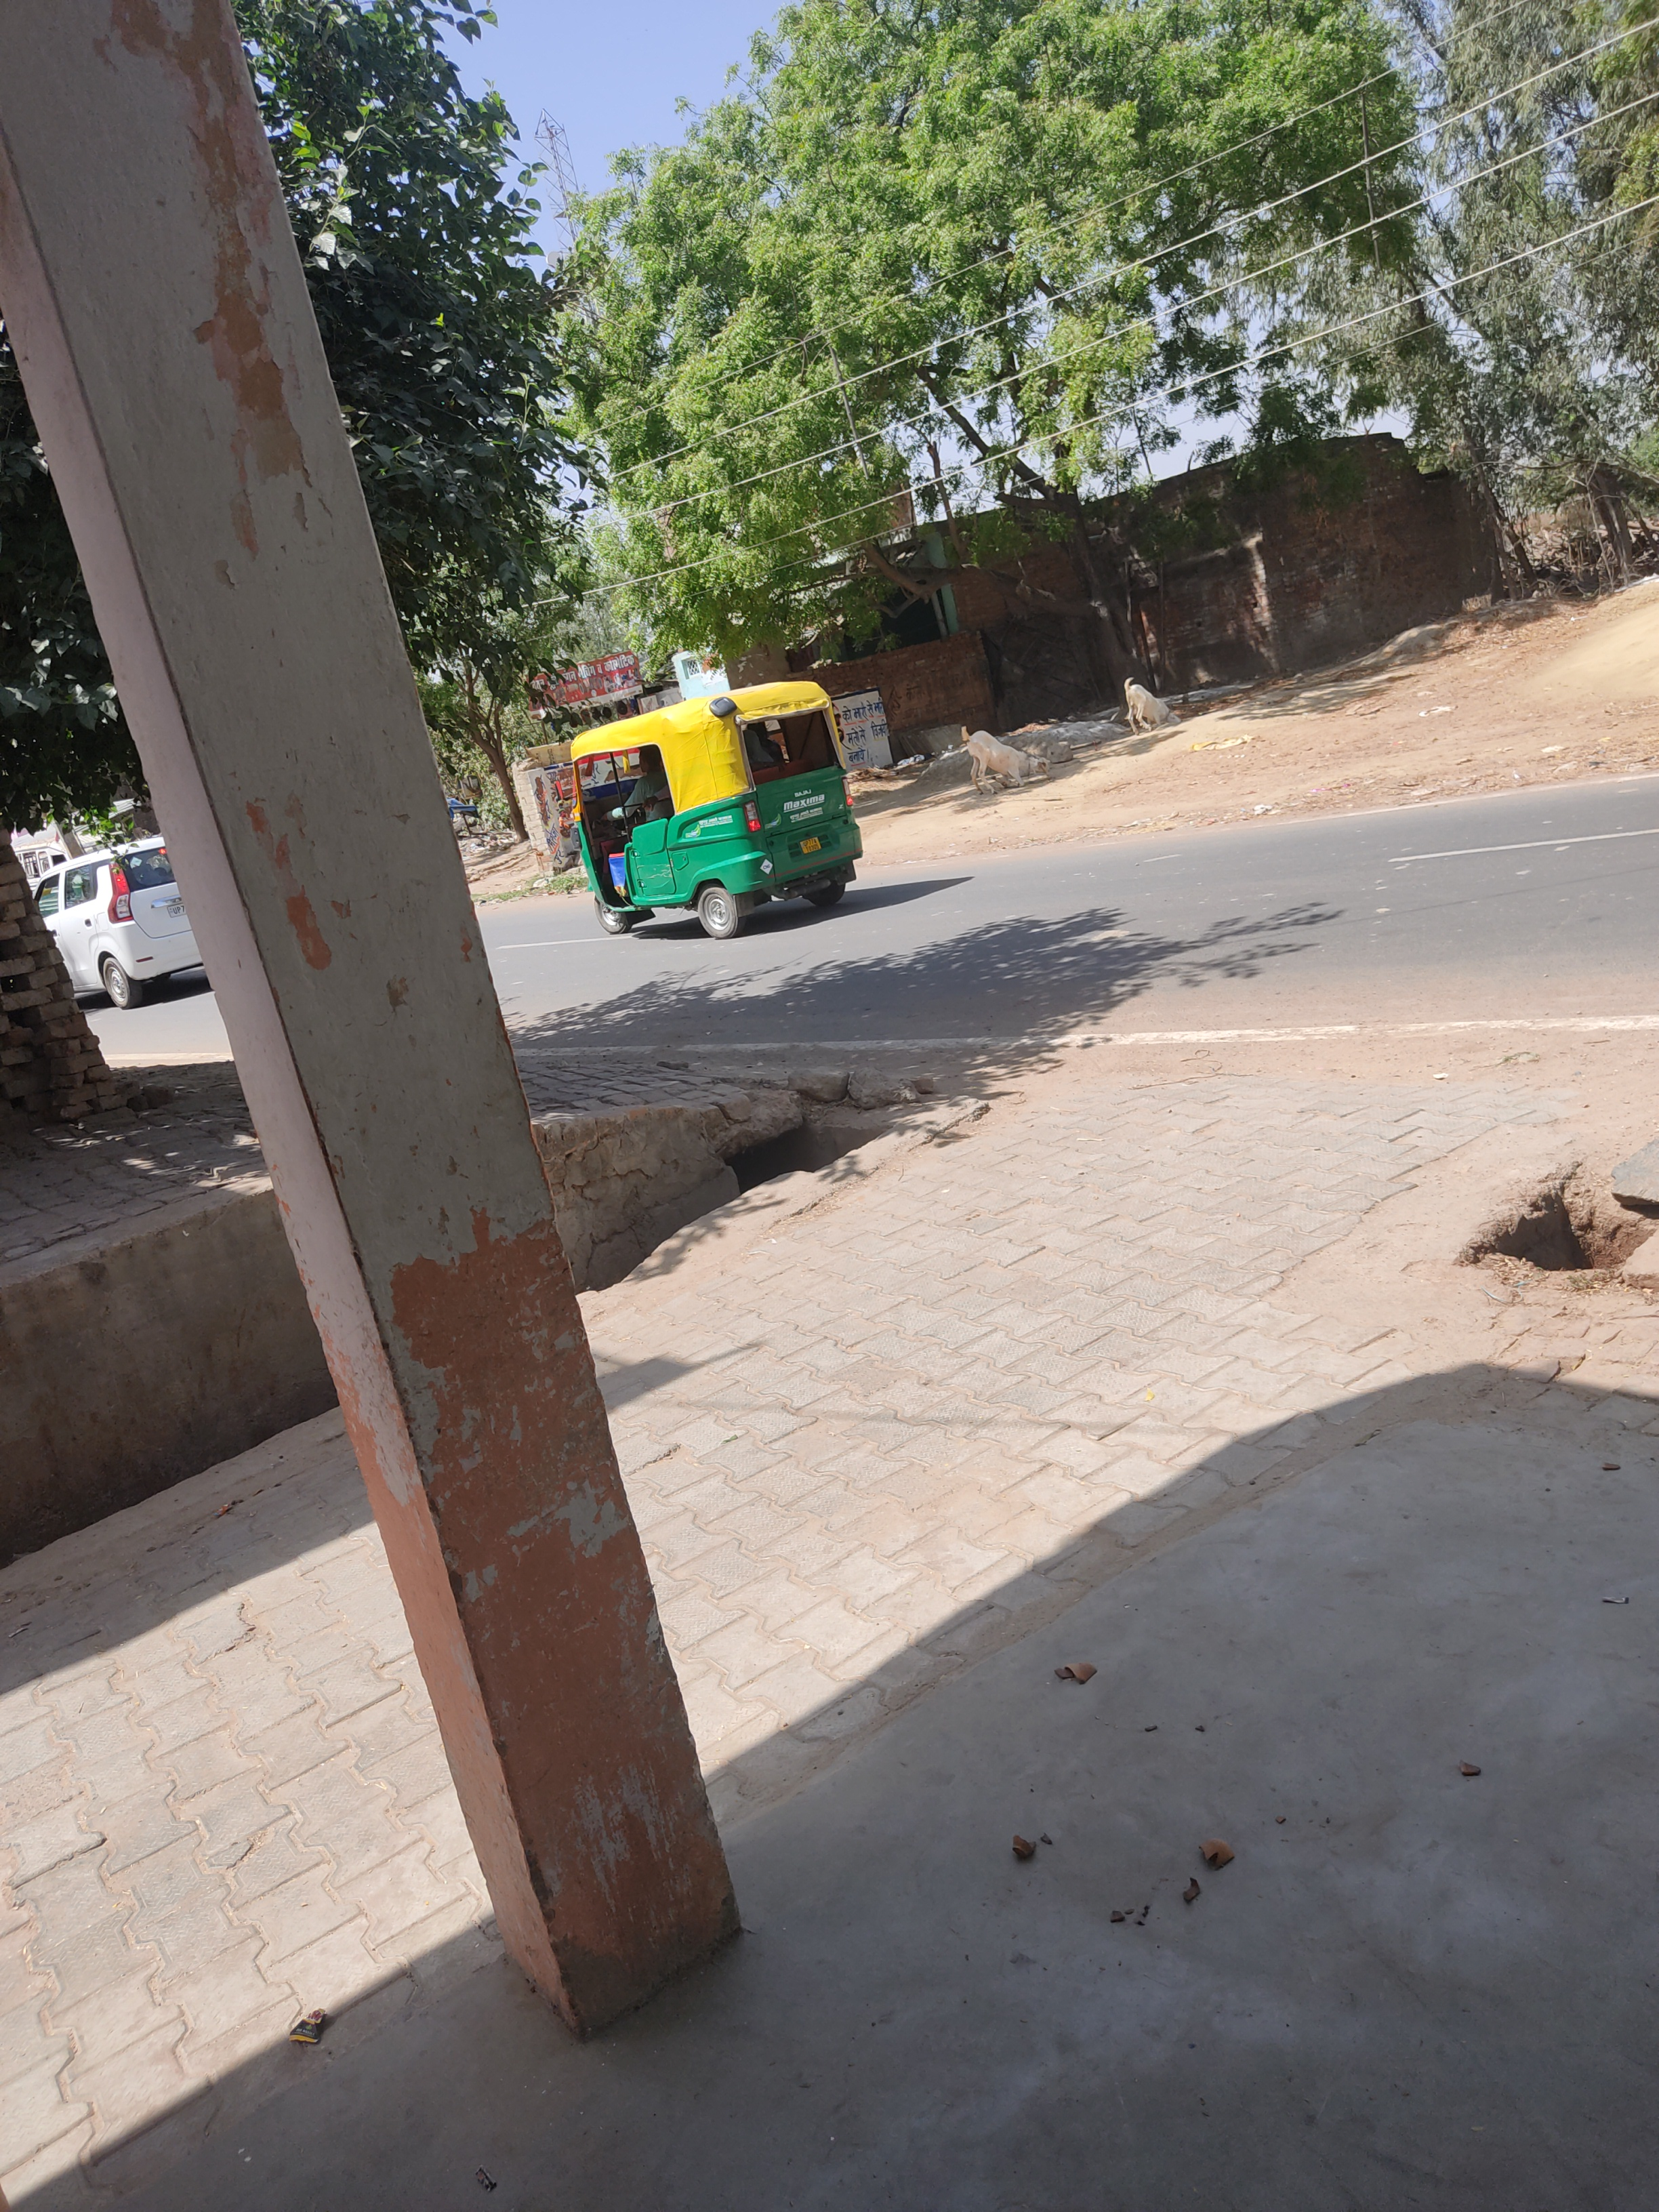auto: (558, 678, 861, 937)
car: (19, 834, 211, 1001)
